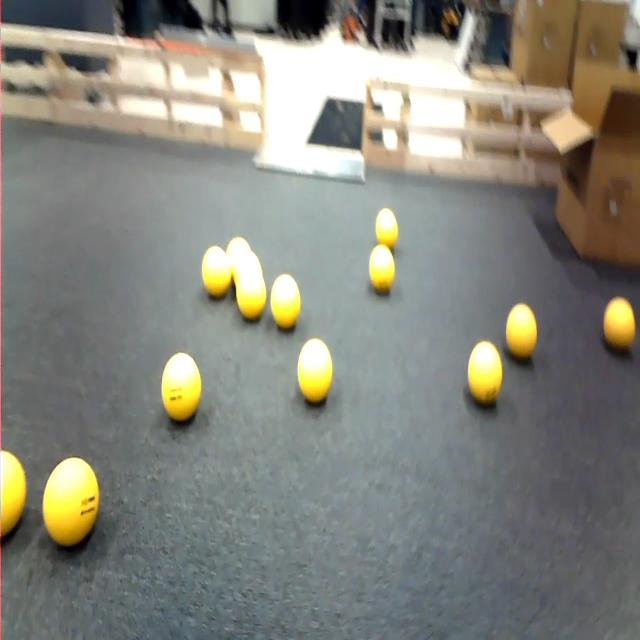fuel: (42, 457, 99, 546), (161, 352, 201, 422), (0, 450, 26, 536), (298, 339, 332, 403), (468, 342, 502, 404), (506, 304, 537, 359), (604, 297, 635, 351), (271, 274, 300, 329), (236, 271, 266, 321), (202, 247, 231, 297), (369, 245, 395, 292), (226, 237, 252, 283), (233, 252, 263, 284), (376, 208, 398, 249), (226, 237, 250, 258)
